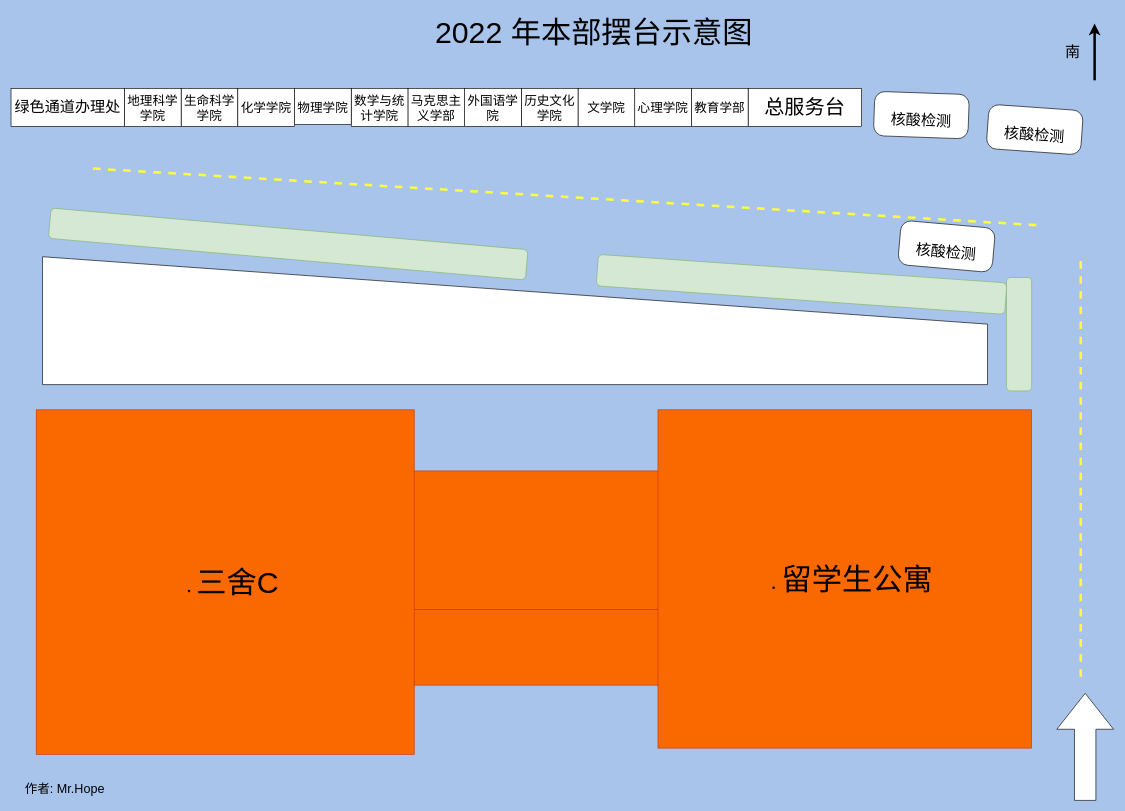
The diagram is 1125 pixels wide and 811 high, and some of its shapes have lost their labels. Here are the shapes that lost their labels. From the top down, the centre of each, then its label:
At (515,320): "停车场".
At (530,540): "爱心驿站".
At (539,647): "保卫处".
At (1085,746): "入 校 通 道".
